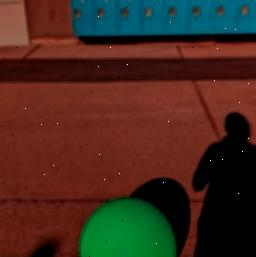algae: (76, 196, 176, 257)
